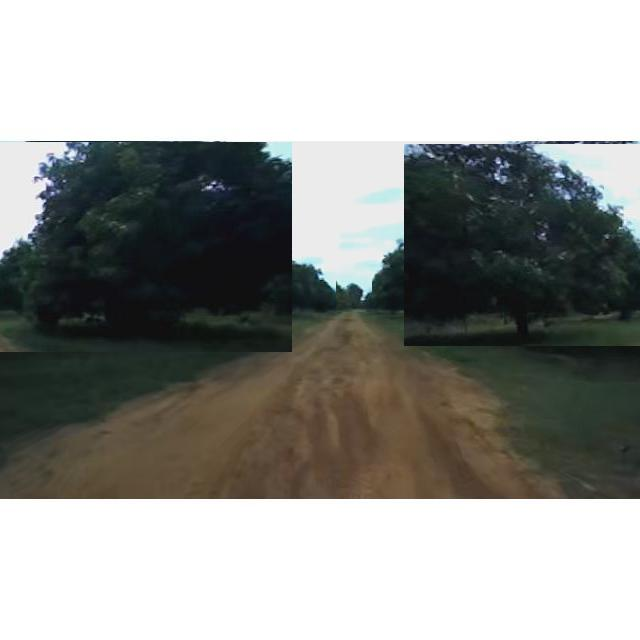direk: (0, 142, 292, 352), (404, 144, 640, 346), (364, 232, 472, 328), (276, 233, 344, 319), (336, 278, 372, 312)
